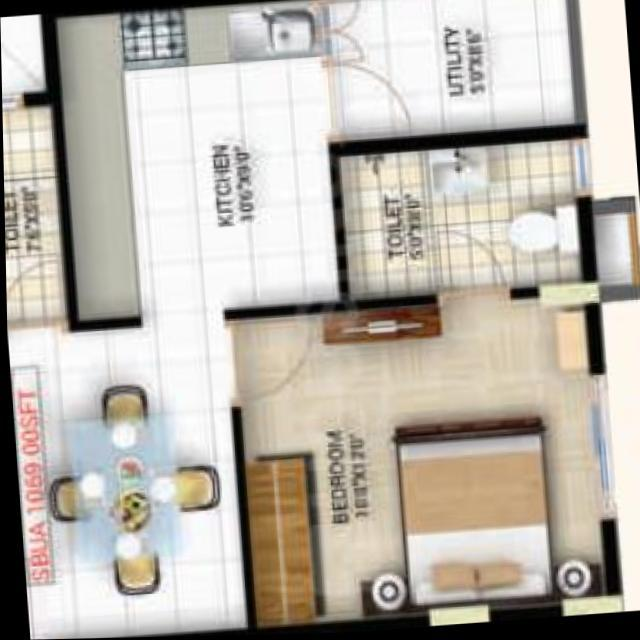Bedroom: (224, 280, 619, 636)
Dining: (7, 314, 255, 640)
Kitchen: (46, 0, 343, 332)
Toilet: (333, 124, 603, 311), (2, 88, 78, 336)
Utility: (321, 0, 592, 152)
